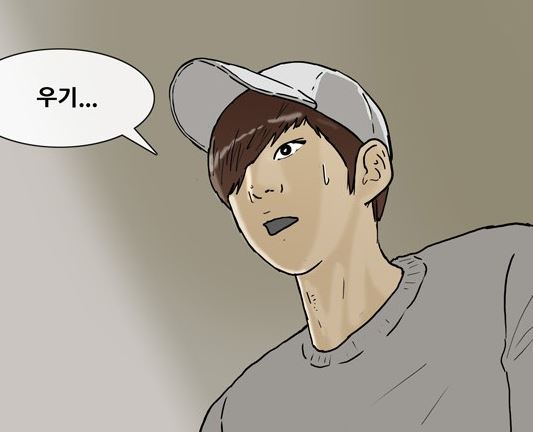hat: (166, 51, 398, 158)
